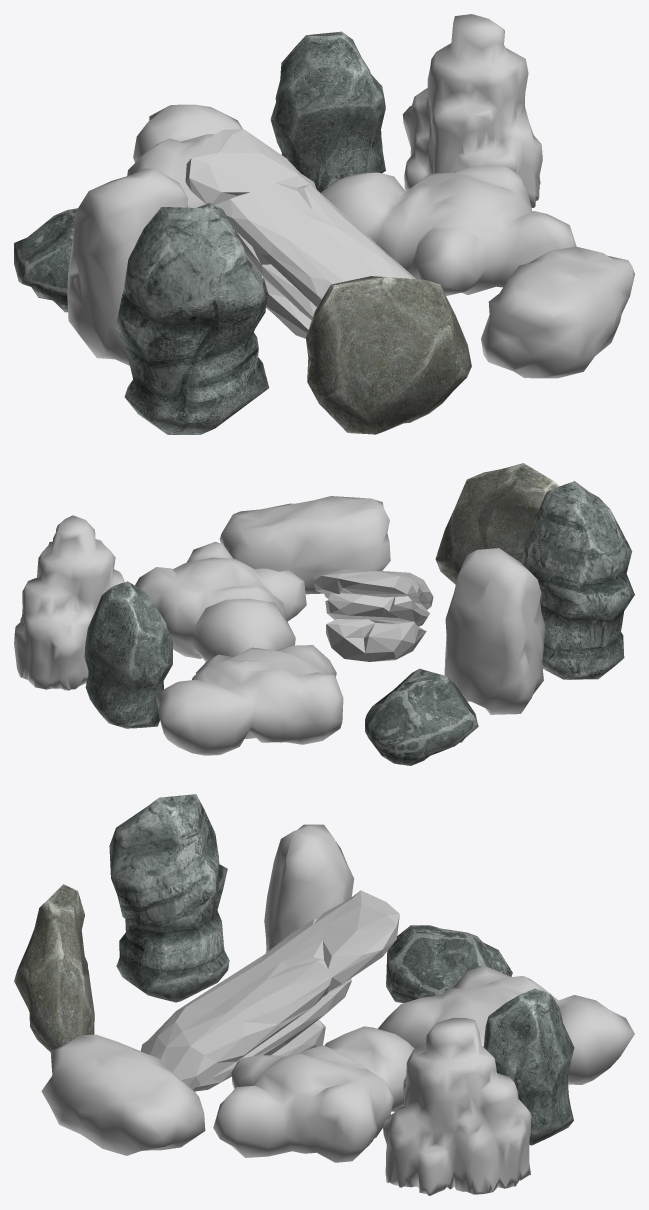
3 views of the same model, one above another, from view 1: azimuth 30°, elevation 25°; view 2: azimuth 150°, elevation 25°; view 3: azimuth 270°, elevation 25° (orthographic). The views are drawn at different scales.
Visible parts, largest first — view 1: Rock_08_7, Rock_04_4, Rock_05S_9, Rock_06_5, Rock_07_6, Rock_03S_8, Rock_02_1, Rock_03_2, Rock_05_3, Rock_01_0; view 2: Rock_08_7, Rock_05_3, Rock_03_2, Rock_05S_9, Rock_07_6, Rock_03S_8, Rock_02_1, Rock_06_5, Rock_04_4, Rock_01_0; view 3: Rock_06_5, Rock_08_7, Rock_07_6, Rock_05S_9, Rock_03S_8, Rock_05_3, Rock_04_4, Rock_02_1, Rock_03_2, Rock_01_0.
Part boxes in pixels (<box>): Rock_08_7: <box>116,202,268,434</box>; Rock_04_4: <box>306,276,471,434</box>; Rock_05S_9: <box>321,166,576,295</box>; Rock_06_5: <box>185,129,415,338</box>; Rock_07_6: <box>402,14,542,207</box>; Rock_03S_8: <box>481,246,634,378</box>; Rock_02_1: <box>270,31,385,192</box>; Rock_03_2: <box>67,168,188,365</box>; Rock_05_3: <box>127,104,316,275</box>; Rock_01_0: <box>14,208,77,312</box>; Rock_08_7: <box>521,481,634,679</box>; Rock_05_3: <box>155,645,343,755</box>; Rock_03_2: <box>444,548,544,714</box>; Rock_05S_9: <box>135,541,306,661</box>; Rock_07_6: <box>14,515,124,690</box>; Rock_03S_8: <box>219,496,390,594</box>; Rock_02_1: <box>84,581,172,728</box>; Rock_06_5: <box>313,569,433,661</box>; Rock_04_4: <box>435,463,559,584</box>; Rock_01_0: <box>365,668,478,765</box>; Rock_06_5: <box>140,890,399,1091</box>; Rock_08_7: <box>109,794,229,1002</box>; Rock_07_6: <box>383,1018,531,1195</box>; Rock_05S_9: <box>213,1026,414,1162</box>; Rock_03S_8: <box>41,1034,205,1155</box>; Rock_05_3: <box>378,966,634,1084</box>; Rock_04_4: <box>14,884,94,1051</box>; Rock_02_1: <box>483,988,574,1145</box>; Rock_03_2: <box>264,824,354,952</box>; Rock_01_0: <box>386,925,512,1003</box>.
Size of the model in its own units: 59.52 by 22.39 by 63.47.
